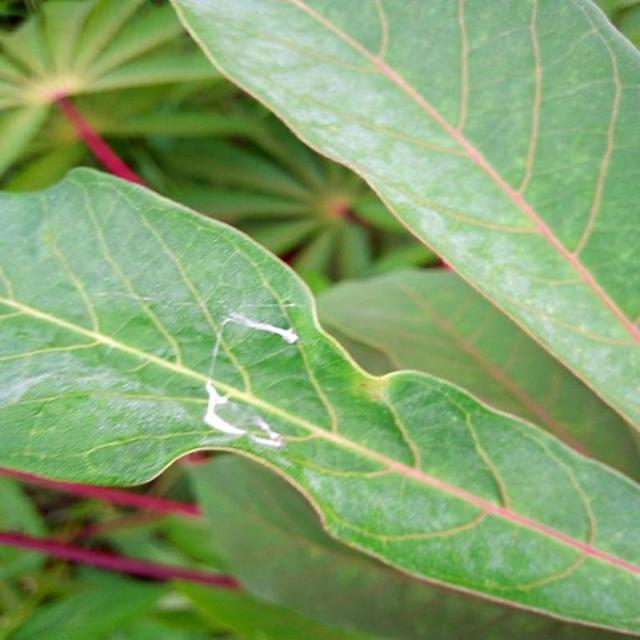cassava leaf: (0, 163, 638, 636), (167, 0, 638, 477)
